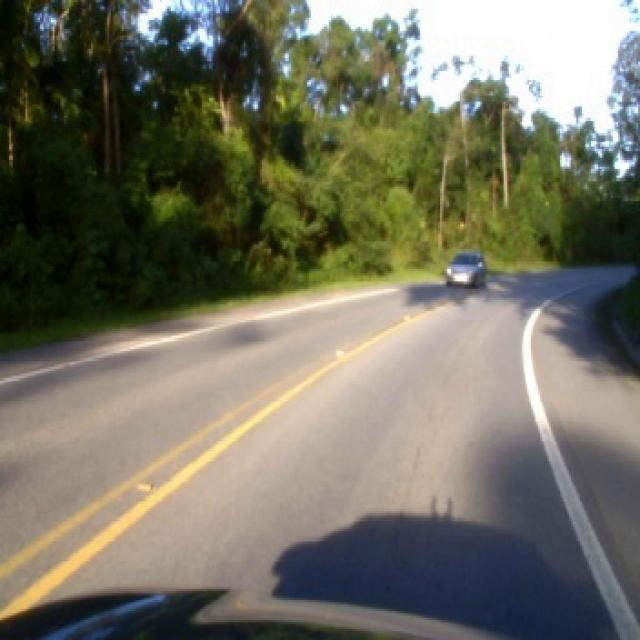Poth-hole: (132, 480, 152, 491), (334, 346, 344, 354)
